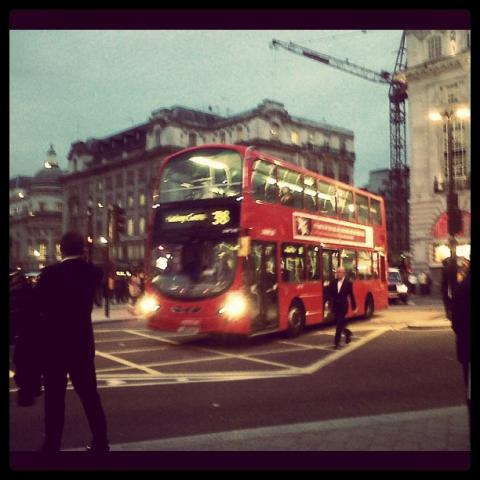bus: (138, 137, 396, 345)
car: (387, 267, 410, 302)
